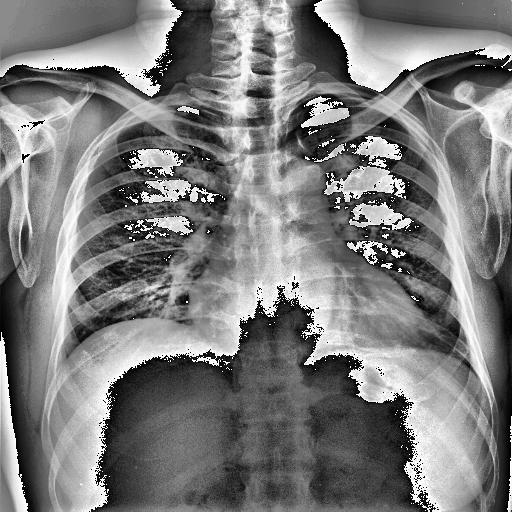0- Aortic enlargement: (278, 154, 326, 196)
3- Cardiomegaly: (184, 271, 426, 347), (186, 284, 425, 344), (187, 289, 425, 348)
